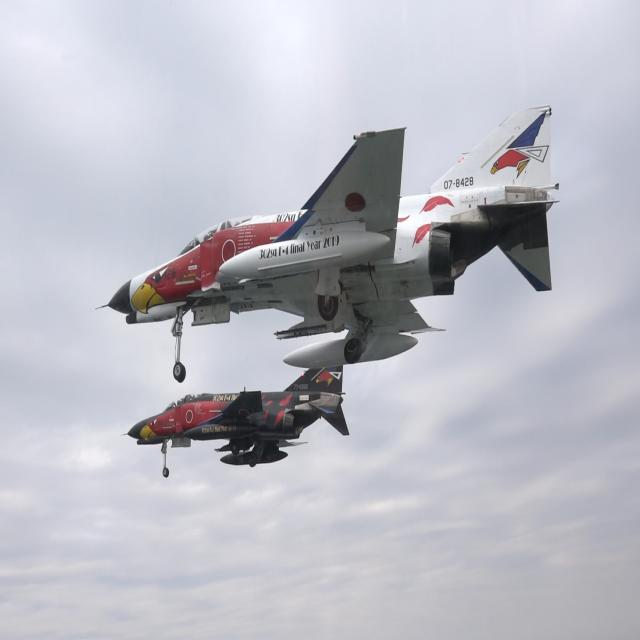MIL_Plane: (95, 104, 560, 369), (120, 364, 350, 478)
